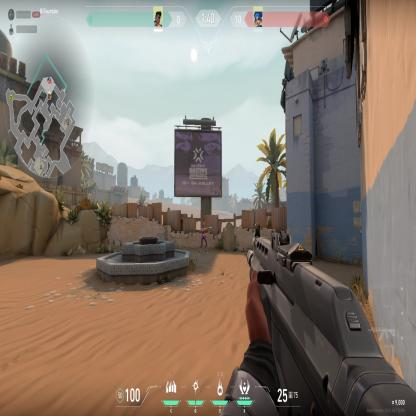enemy: (198, 220, 209, 256)
